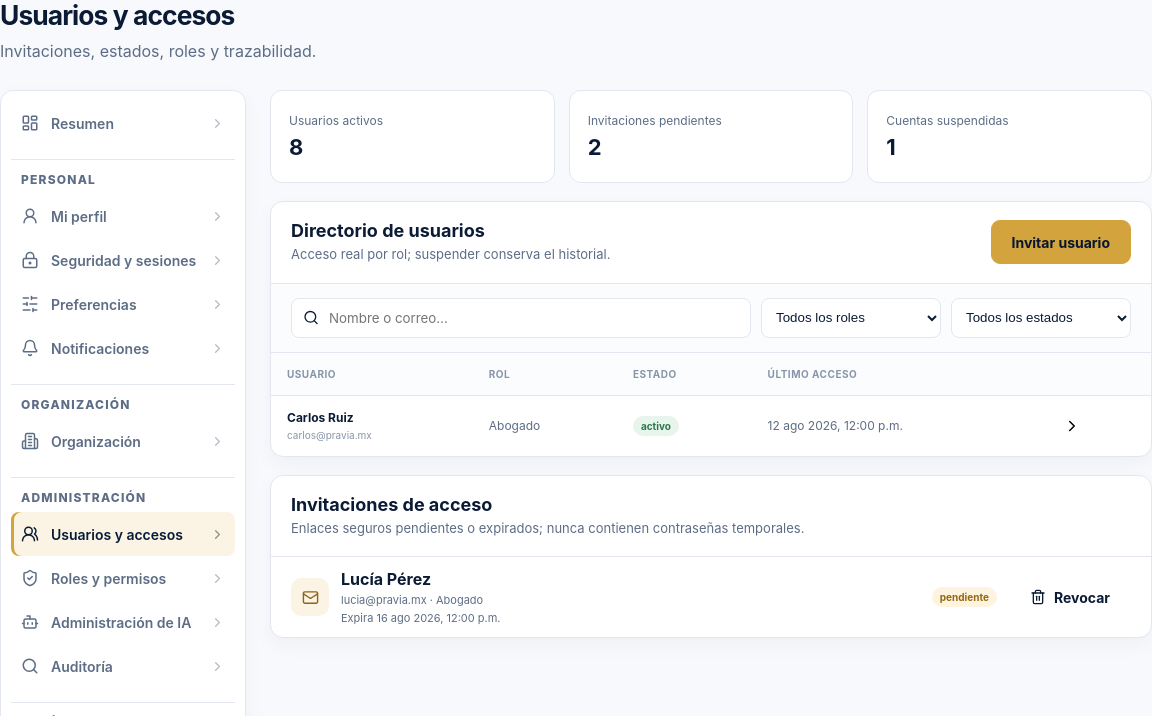
Configuración, usuarios y accesos › usuarios usa datos paginados reales y ofrece invitación sin contraseña temporal
Click the button "Invitar usuario" at (1061, 242), box [990,220,1131,264]
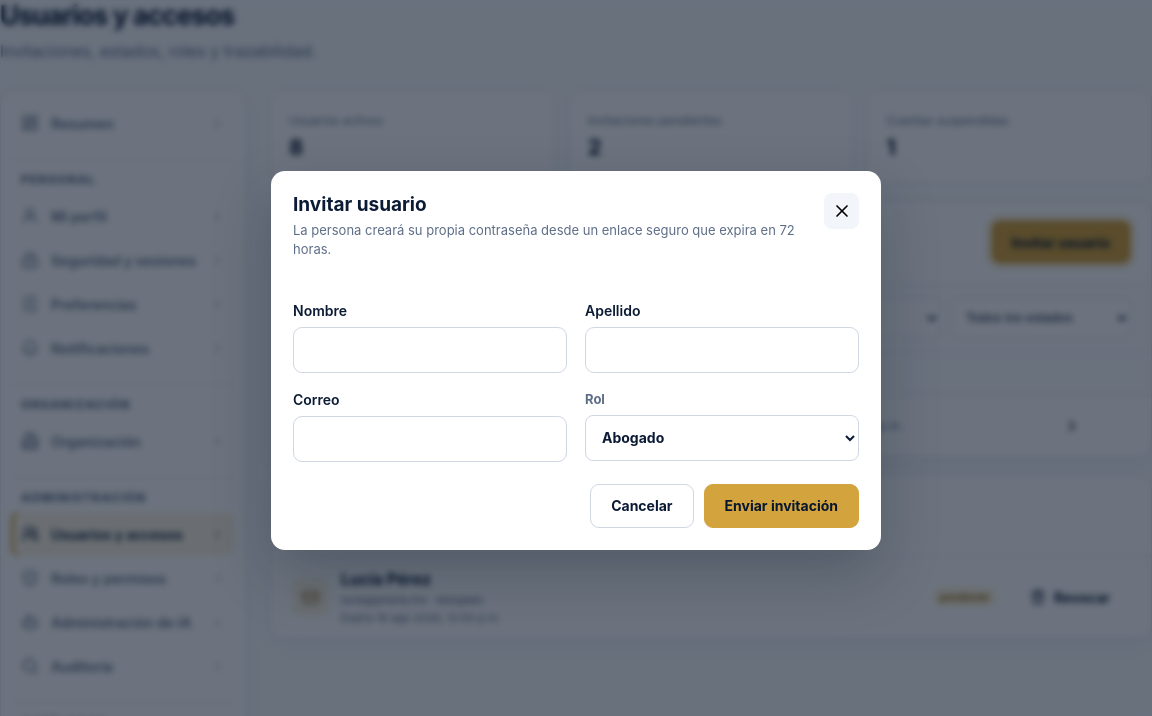
Check: the text "Lucía Pérez" is shown, box [341,569,431,589]
Check: the dialog "Invitar usuario" is shown, box [271,170,881,550]
Check: the text "expira en 72 horas" is shown, box [293,222,795,257]
